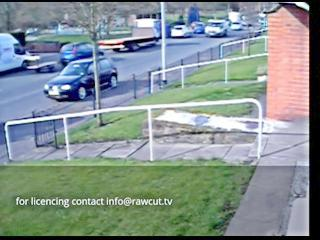Car: (48, 58, 116, 97), (102, 21, 160, 49), (0, 35, 31, 71), (65, 43, 100, 63), (207, 21, 227, 37), (171, 22, 191, 37), (193, 22, 206, 36), (231, 21, 242, 30)
